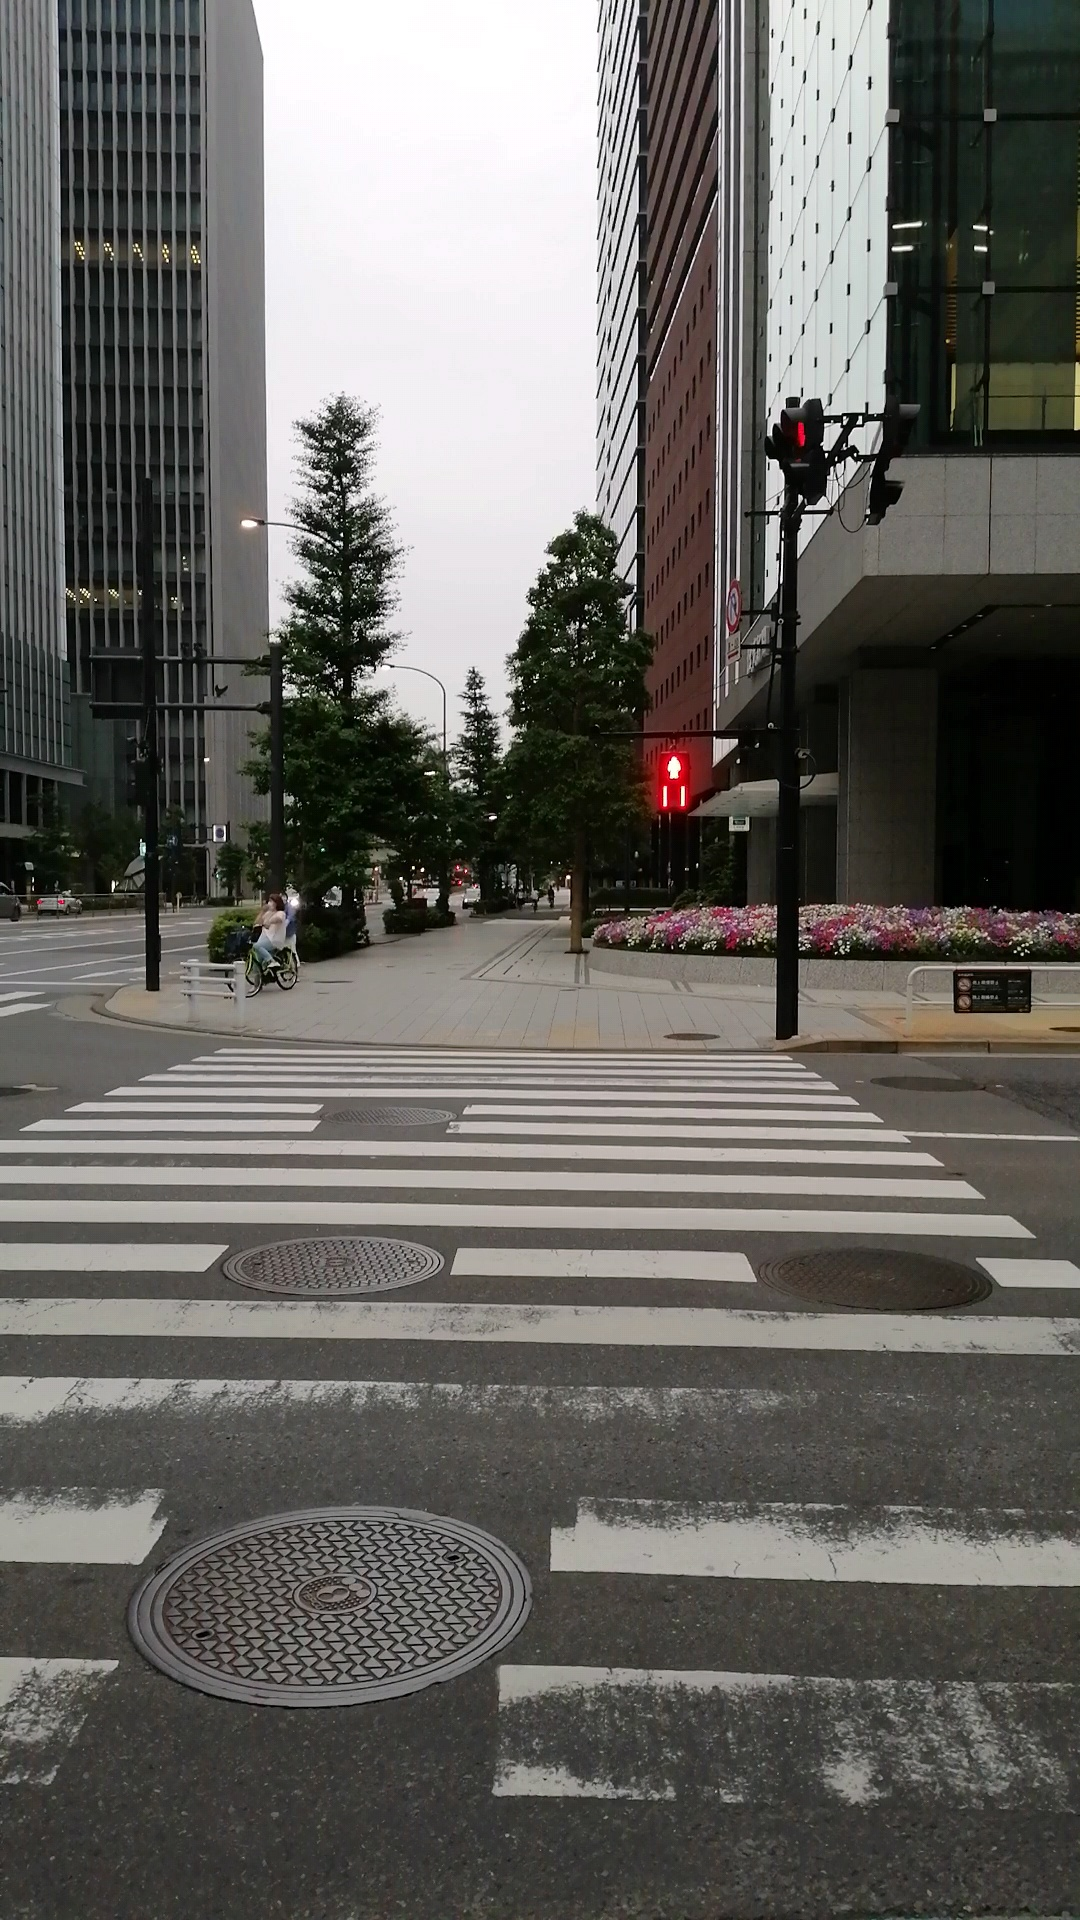red: (655, 750, 688, 812)
